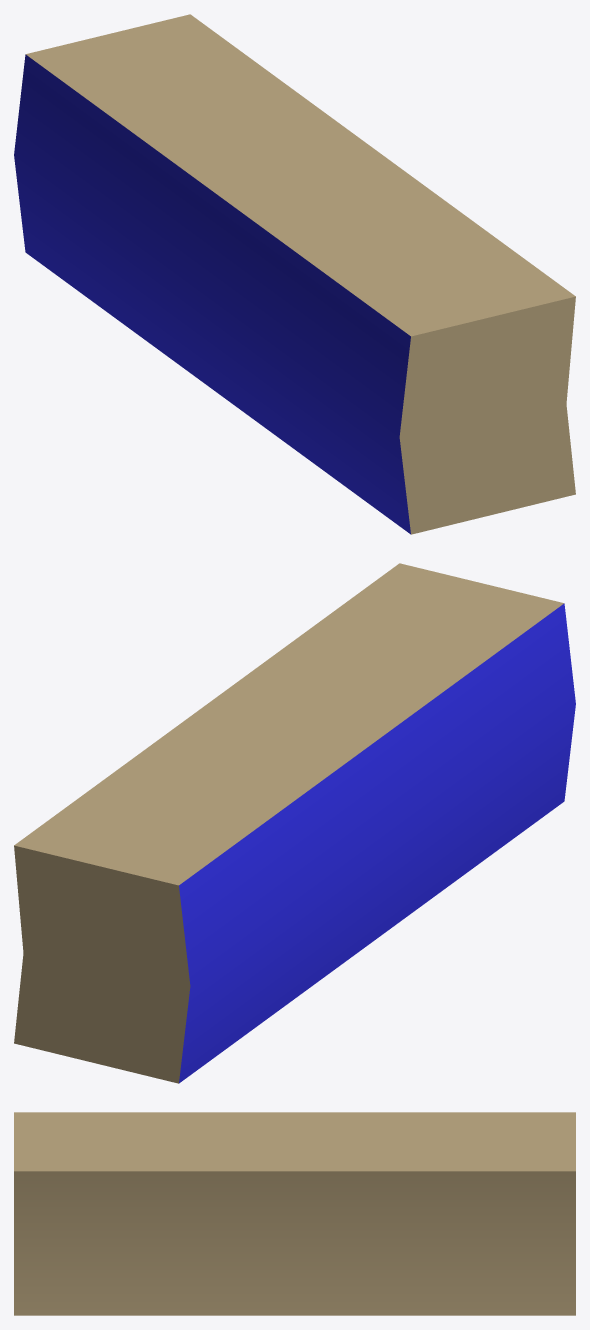
The model's file is Wood.fbx.
3 renders of one model, top to bottom at view 1: azimuth 30°, elevation 25°; view 2: azimuth 150°, elevation 25°; view 3: azimuth 270°, elevation 25°, orthographic. The views are drawn at different scales.
Parts seen in each view (by area): view 1: Box001; view 2: Box001; view 3: Box001.
Part boxes in pixels (bbox=[...]): Box001: bbox=[14, 14, 575, 534]; Box001: bbox=[14, 563, 575, 1083]; Box001: bbox=[14, 1112, 575, 1315].
Bounding box in the file's own units: 27.71 × 29.75 × 105.
